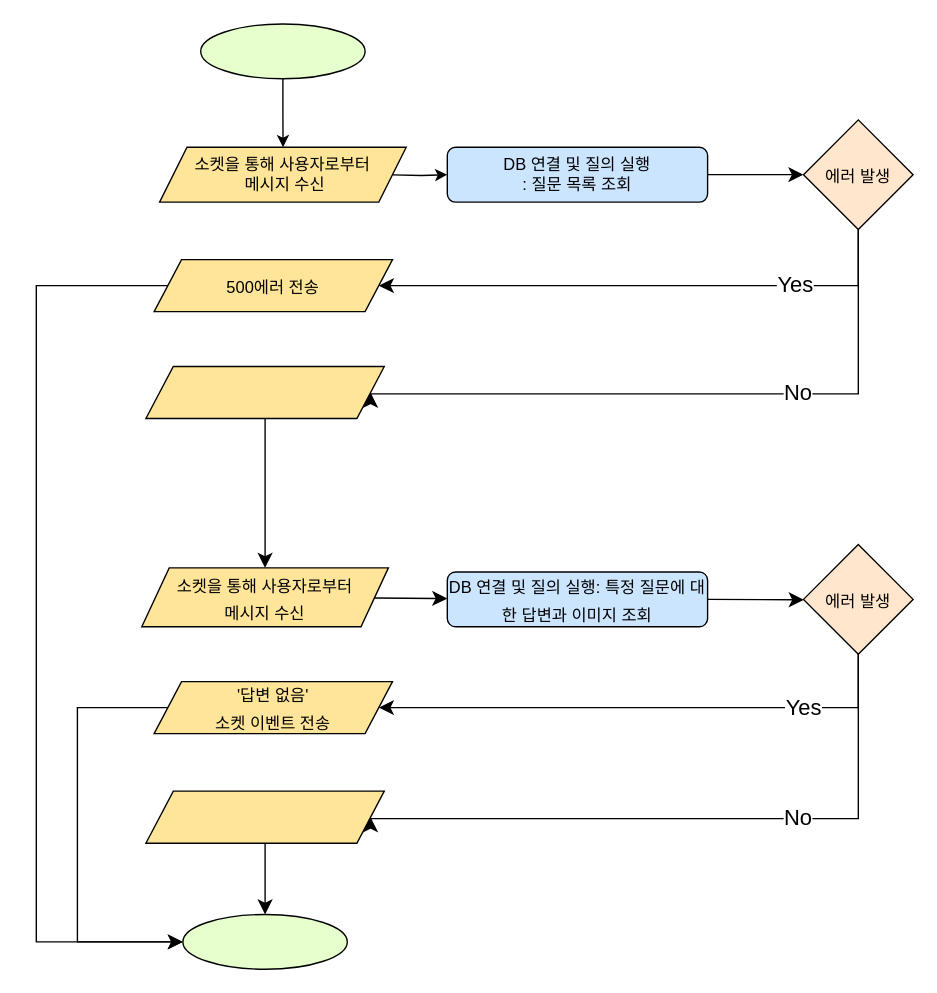
This 937x993 diagram has some shape labels left out. Here are the shapes that lost their labels. From the top down, the centre of each, then its label:
pixel 282 51: 시작
pixel 264 392: 질문 목록 JSON 반환
pixel 264 816: 답변과 이미지 포함된 소켓 이벤트 전송
pixel 264 941: 종료
